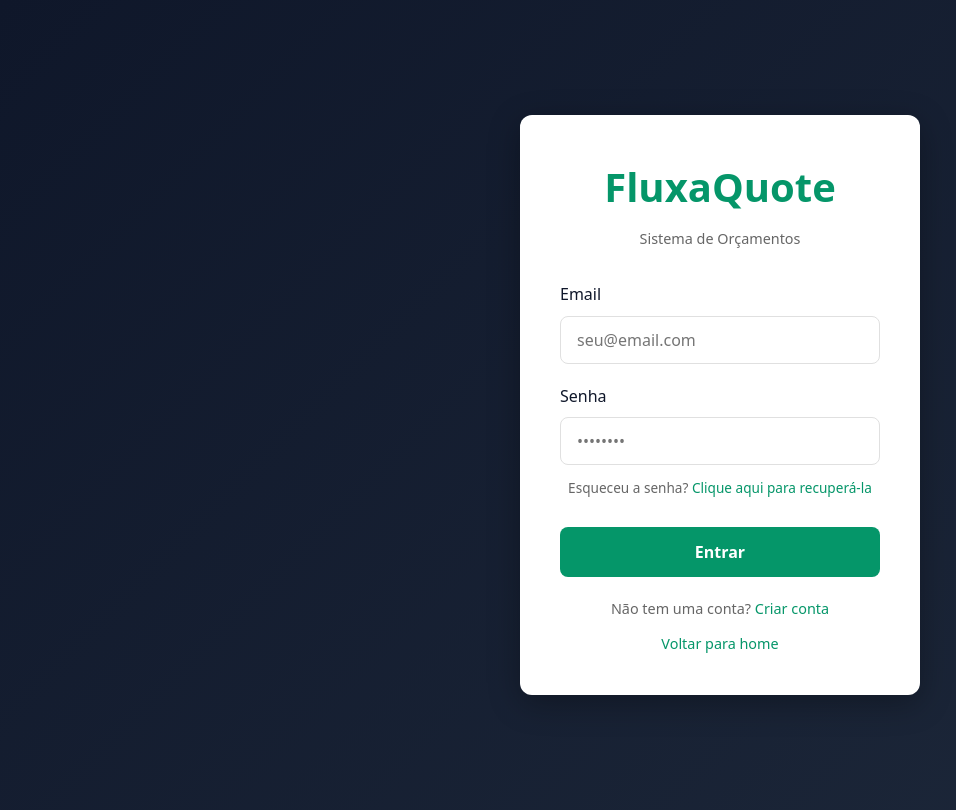
Login Page › deve mostrar erro quando login falha
Type "test@test.com" into the field labelled "Email" at (720, 340), box [560, 316, 880, 364]
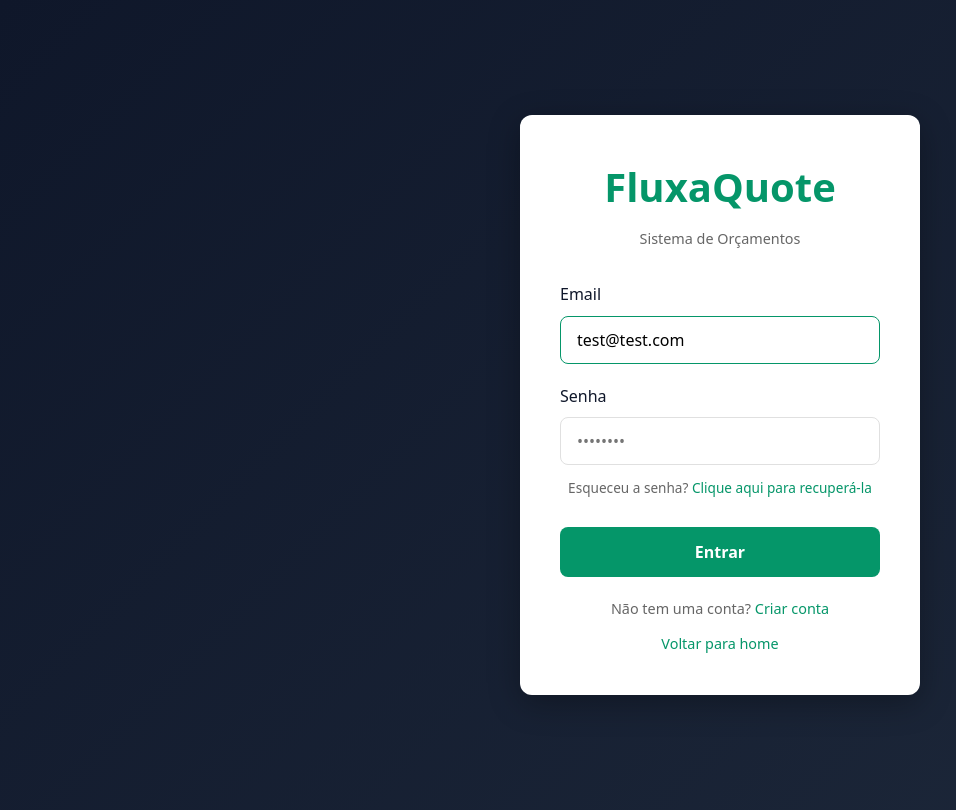
Type "wrongpassword" into the password field labelled "Senha" at (720, 441), box [560, 417, 880, 465]
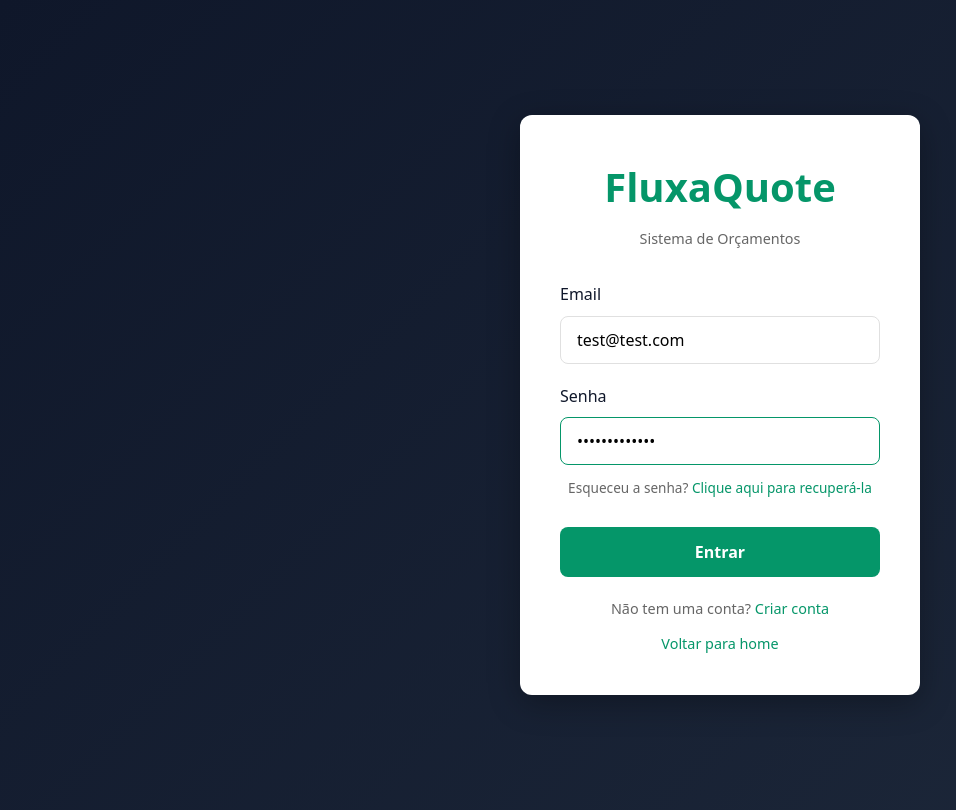
Click the button "Entrar" at (720, 552), box [560, 527, 880, 577]
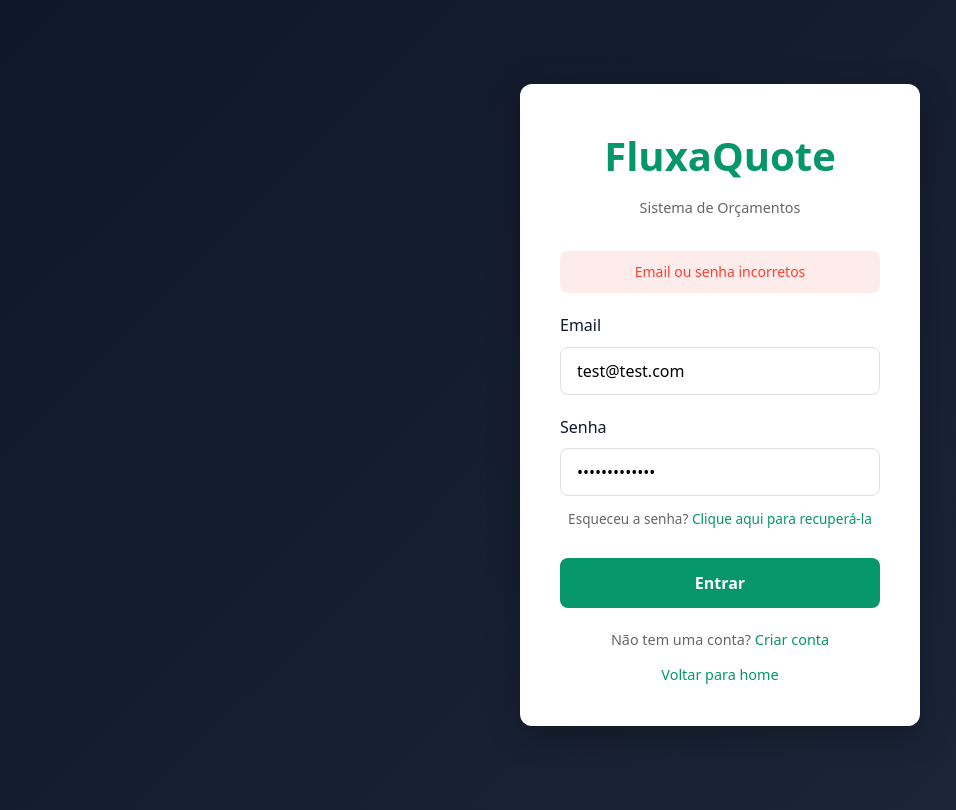
Check: the text "Email ou senha incorretos" is shown, box [560, 251, 880, 293]
